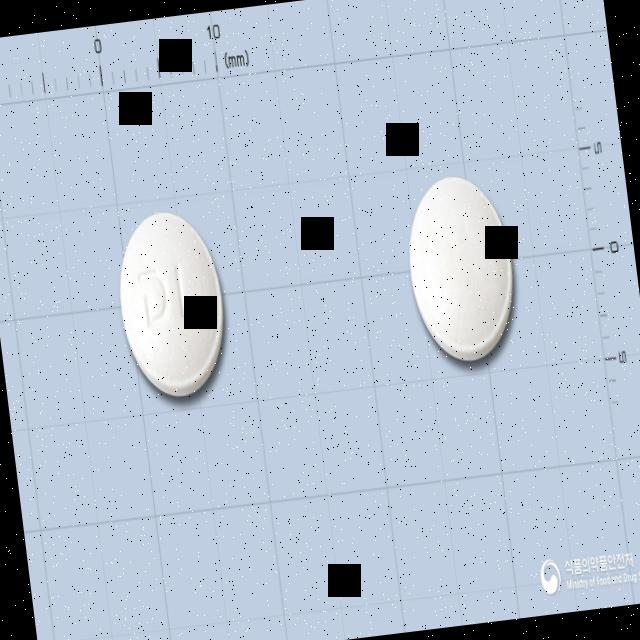Levicin: (110, 203, 235, 404)
